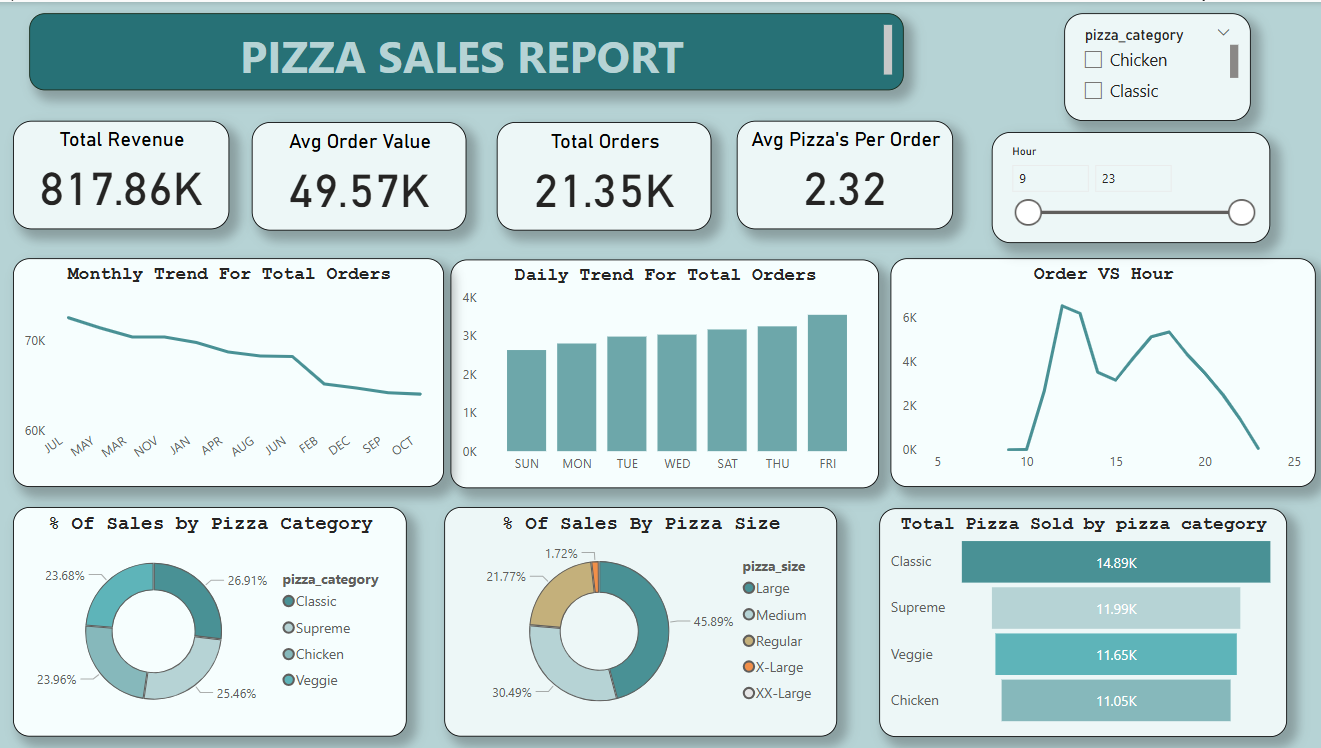

What the dashboard file says about the page in this screenshot:
{"tool":"powerbi","page":{"name":"Page 1","canvas":[1280,720],"ordinal":0},"visuals":[{"type":"card","title":"Total Revenue","fields":{"Values":["pizza_sales.Total_revenue"]},"box":[14.5,114.6,208.7,105],"z":0},{"type":"card","title":"Total Orders","fields":{"Values":["pizza_sales.Total_orders"]},"box":[481.4,115.8,207.5,105],"z":1000},{"type":"card","title":"Avg Order Value","fields":{"Values":["pizza_sales.Total_pizza_sold"]},"box":[244.9,115.8,207.5,105],"z":2000},{"type":"card","title":"Avg Pizza''s Per Order","fields":{"Values":["pizza_sales.avg_Pizza_perorder"]},"box":[713,114.6,208.7,105],"z":3000},{"type":"columnChart","title":"Daily Trend For Total Orders","fields":{"Y":["Count(pizza_sales.order_id)"],"Category":["pizza_sales.Column"]},"box":[436.7,248.5,413.8,220.8],"z":4000},{"type":"donutChart","title":"% Of Sales By Pizza Size","fields":{"Y":["Sum(pizza_sales.total_price)"],"Category":["pizza_sales.pizza_size"]},"box":[430.7,487.4,378.8,222],"z":5000},{"type":"donutChart","title":"% Of Sales by Pizza Category","fields":{"Category":["pizza_sales.pizza_category"],"Y":["Sum(pizza_sales.total_price)"]},"box":[14.5,487.4,380,222],"z":6000},{"type":"funnel","title":"Total Pizza Sold by pizza category","fields":{"Category":["pizza_sales.pizza_category"],"Y":["Sum(pizza_sales.quantity)"]},"box":[850.5,488.6,393.3,220.8],"z":7000},{"type":"lineChart","title":"Monthly Trend For Total Orders","fields":{"Y":["Sum(pizza_sales.total_price)"],"Category":["pizza_sales.Column 2"]},"box":[14.5,247.3,416.2,220.8],"z":8000},{"type":"slicer","fields":{"Values":["pizza_sales.pizza_category"]},"box":[1029.1,10.9,179.8,103.8],"z":9000},{"type":"textbox","box":[30.6,11,843.8,74.6],"z":10000},{"type":"lineChart","title":"Order VS Hour","fields":{"Category":["pizza_sales.Hour"],"Y":["CountNonNull(pizza_sales.order_id)"]},"box":[861.4,247.3,410.2,220.8],"z":10001},{"type":"slicer","fields":{"Values":["pizza_sales.Hour"]},"box":[959.1,125.5,269,107.4],"z":10002}]}

Visuals, with their boxes in screenshot pixels (x1, y1, x2, y2), scaled from the page's 1280x720 canvas onto the 1321x748 screenshot:
"Total Revenue" card: box(15, 119, 230, 228)
"Total Orders" card: box(497, 120, 711, 229)
"Avg Order Value" card: box(253, 120, 467, 229)
"Avg Pizza''s Per Order" card: box(736, 119, 951, 228)
"Daily Trend For Total Orders" columnChart: box(451, 258, 878, 488)
"% Of Sales By Pizza Size" donutChart: box(444, 506, 835, 737)
"% Of Sales by Pizza Category" donutChart: box(15, 506, 407, 737)
"Total Pizza Sold by pizza category" funnel: box(878, 508, 1284, 737)
"Monthly Trend For Total Orders" lineChart: box(15, 257, 444, 486)
slicer - pizza_sales.pizza_category: box(1062, 11, 1248, 119)
textbox: box(32, 11, 902, 89)
"Order VS Hour" lineChart: box(889, 257, 1312, 486)
slicer - pizza_sales.Hour: box(990, 130, 1267, 242)
